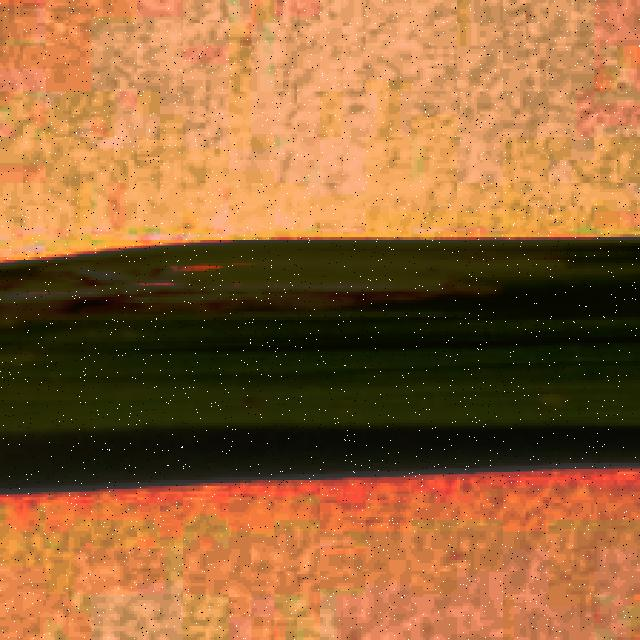unhealth: (3, 243, 640, 434)
